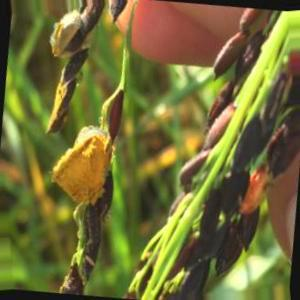Leaf_Scald: (55, 123, 110, 201), (238, 172, 275, 222)
